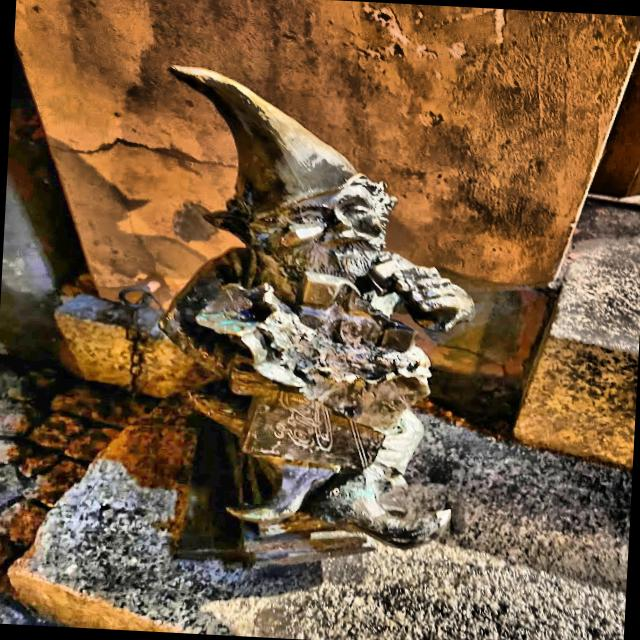Wedelek: (161, 67, 474, 564)
